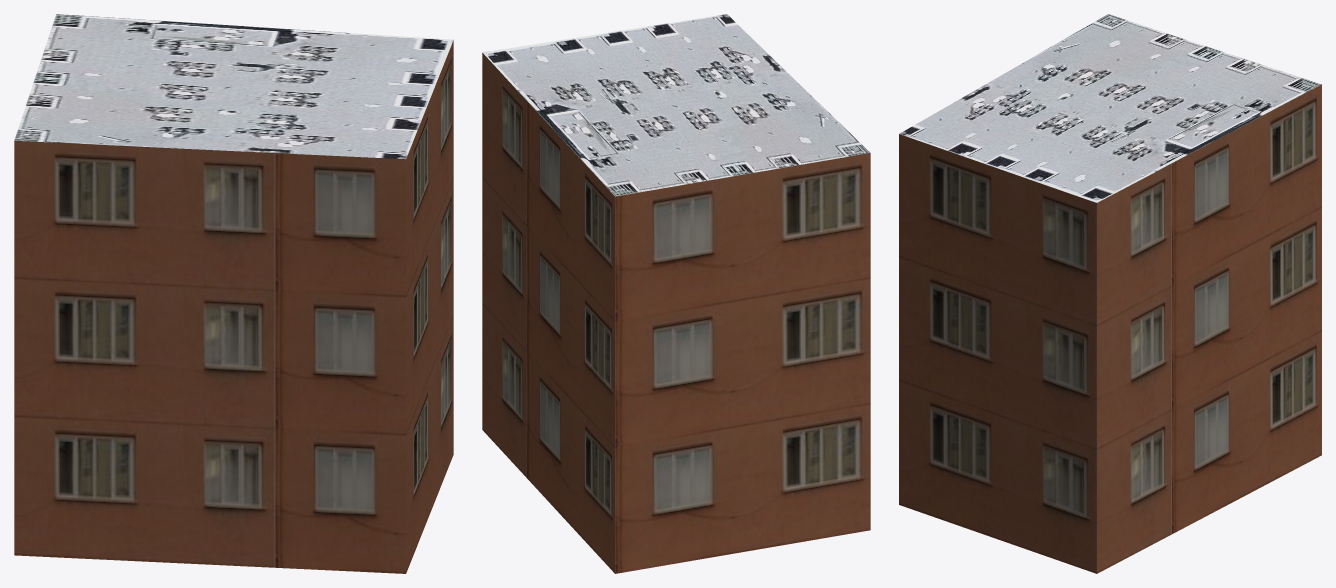
The model's file is ResTex__4270.fbx.
The picture shows the model from 3 angles, left to right: view 1: azimuth 30°, elevation 25°; view 2: azimuth 150°, elevation 25°; view 3: azimuth 270°, elevation 25°; orthographic projection. The views are drawn at different scales.
Visible parts, largest first — view 1: CityEngineMaterial_20_m, CityEngineMaterial_4_m; view 2: CityEngineMaterial_20_m, CityEngineMaterial_4_m; view 3: CityEngineMaterial_20_m, CityEngineMaterial_4_m.
Part boxes in pixels (x1,y1,x2,y2): CityEngineMaterial_20_m: (14, 40, 453, 573); CityEngineMaterial_4_m: (14, 14, 453, 159); CityEngineMaterial_20_m: (482, 53, 870, 573); CityEngineMaterial_4_m: (482, 14, 870, 196); CityEngineMaterial_20_m: (899, 84, 1321, 573); CityEngineMaterial_4_m: (899, 14, 1321, 202).
Bounding box in the file's own units: 9.84 × 9 × 9.3.
Materials: 2 (2 with a texture image).
